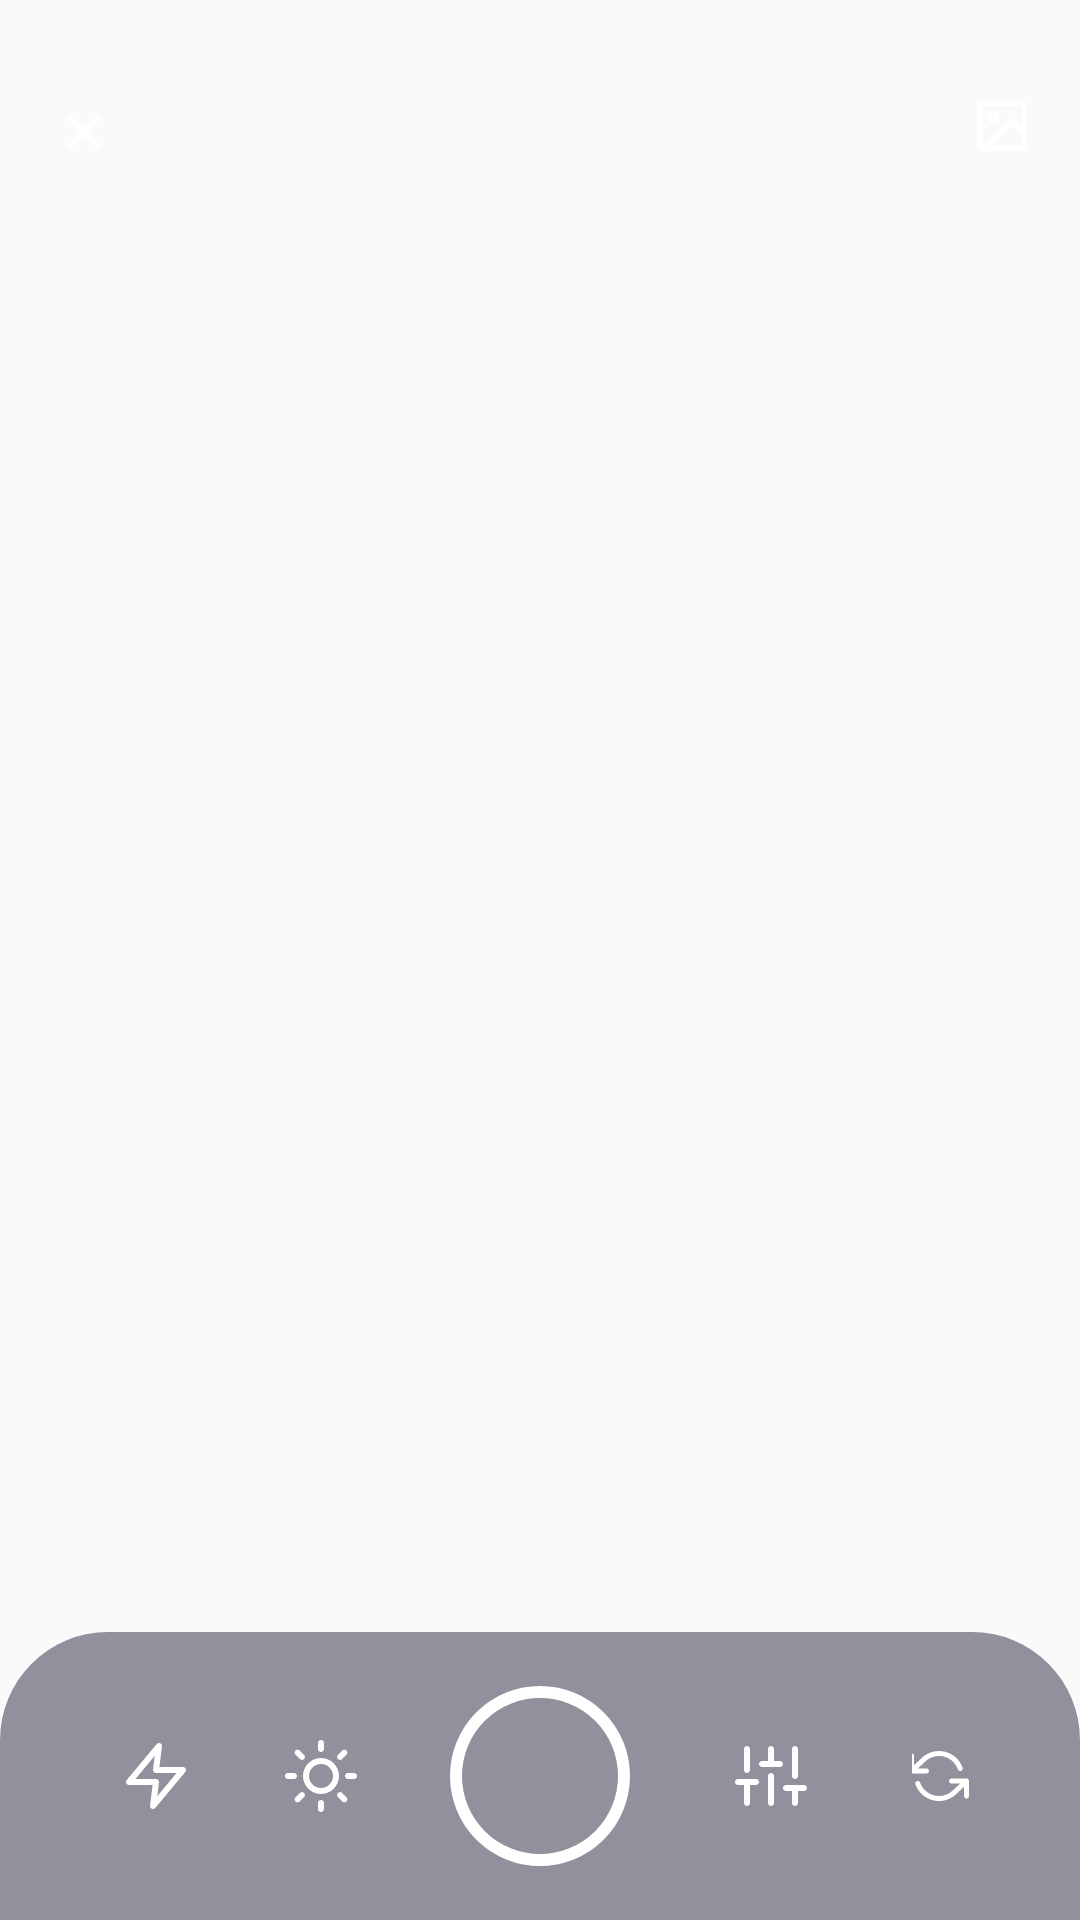

Point at icon controls on the screen. Image size 1080px x 1920px, points as (x=x, y=y).
camera toggle: (x=940, y=1776)
flash: (x=156, y=1776)
options: (x=771, y=1776)
sun: (x=321, y=1776)
